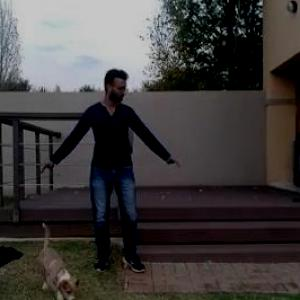land: (45, 83, 204, 264)
